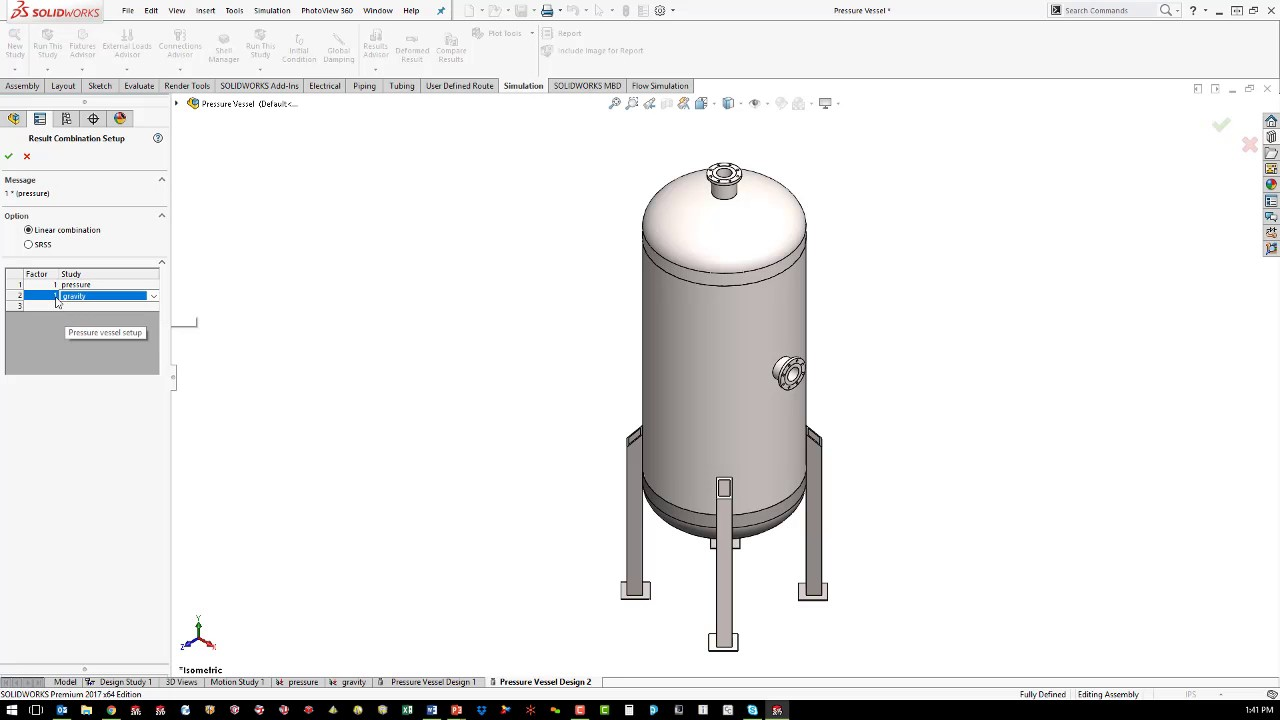nozzle: (761, 331, 814, 404), (699, 154, 751, 210)
